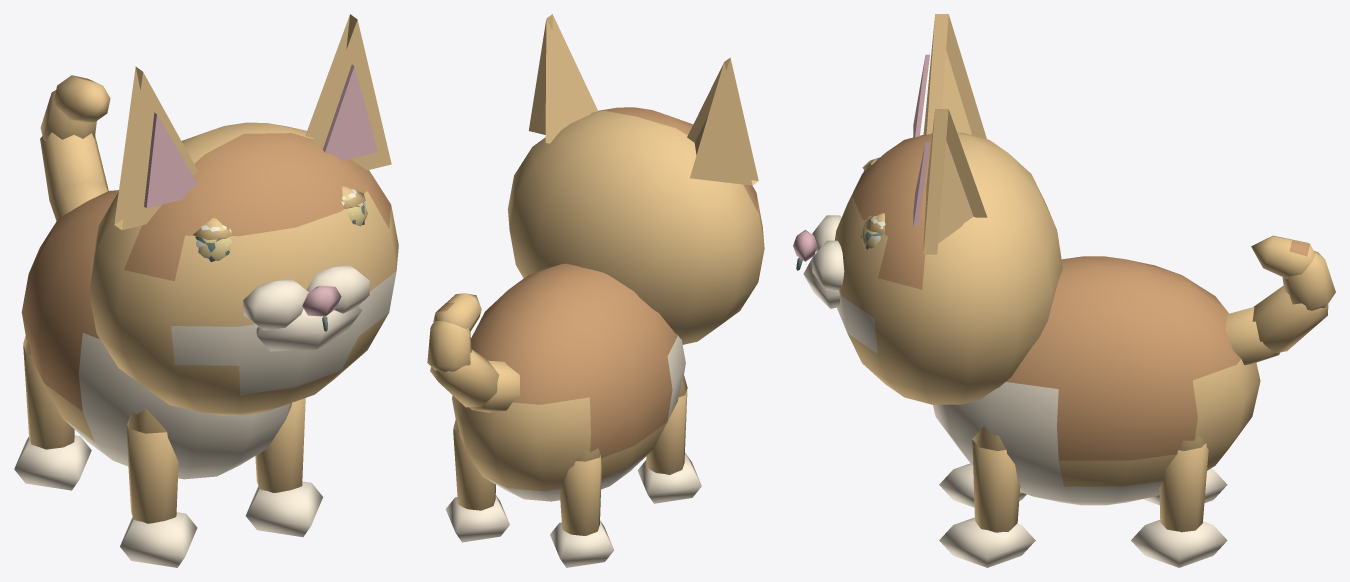
File: cat_kitten.fbx
3 renders of one model, left to right at view 1: azimuth 30°, elevation 25°; view 2: azimuth 150°, elevation 25°; view 3: azimuth 270°, elevation 25°, orthographic. The views are drawn at different scales.
Parts seen in each view (by area): view 1: Head, Body, EarL, EarR, LegFrontLeftLower, LegFrontRightLower, LegBackLeftLower, Tail, Jaw, Tail_3, Tail_2, PawFrontLeft; view 2: Head, Body, EarL, EarR, LegBackLeftLower, LegBackRightLower, LegFrontLeftLower, Tail, Tail_2, Tail_3; view 3: Body, Head, LegFrontRightLower, LegBackRightLower, EarR, EarL, Tail, Tail_3, Tail_2, LegFrontLeftLower, Jaw.
Boxes of the visible parts, x1,y1,x2,y2 form: Head: (89,122,398,415); Body: (21,190,291,479); EarL: (114,66,198,229); EarR: (305,14,391,170); LegFrontLeftLower: (120,425,197,567); LegFrontRightLower: (245,398,322,537); LegBackLeftLower: (14,345,91,490); Tail: (40,132,108,220); Jaw: (256,306,362,351); Tail_3: (54,75,110,122); Tail_2: (40,90,96,140); PawFrontLeft: (127,409,166,433); Head: (507,107,764,344); Body: (452,263,685,501); EarL: (687,57,758,185); EarR: (528,14,597,143); LegBackLeftLower: (550,455,614,567); LegBackRightLower: (445,429,509,542); LegFrontLeftLower: (637,387,701,503); Tail: (430,349,520,412); Tail_2: (427,321,471,373); Tail_3: (433,293,481,331); Body: (933,256,1260,505); Head: (793,132,1062,404); LegFrontRightLower: (939,440,1035,567); LegBackRightLower: (1131,443,1227,567); EarR: (913,109,987,254); EarL: (913,14,986,138); Tail: (1225,285,1328,365); Tail_3: (1251,235,1315,279); Tail_2: (1282,251,1335,310); LegFrontLeftLower: (939,463,1026,507); Jaw: (803,251,839,308).
Size of the model in its own units: 0.8213 by 1.45 by 1.51.
